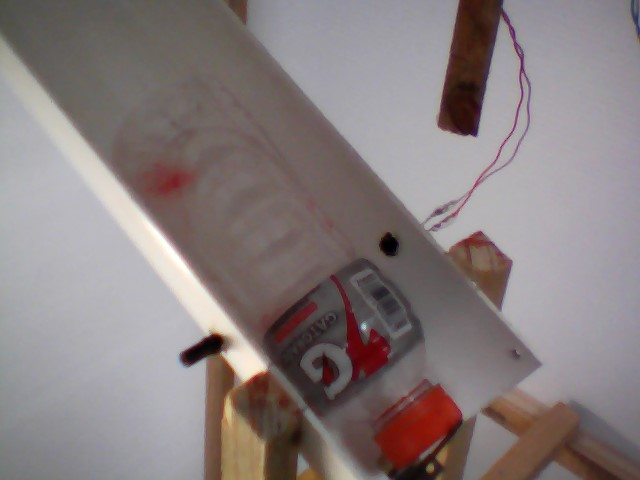plastico: (99, 53, 468, 467)
